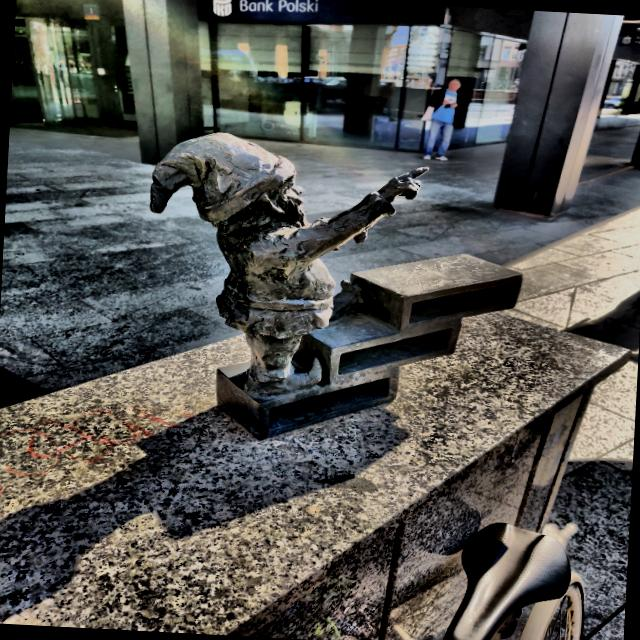Elementek: (151, 133, 521, 439)
